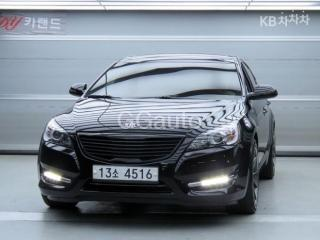1: (98, 167, 105, 179), (139, 168, 145, 180)
3: (105, 166, 113, 178)
4: (122, 168, 132, 179)
5: (131, 168, 139, 179)
6: (145, 168, 154, 180)
소: (112, 168, 119, 179)
